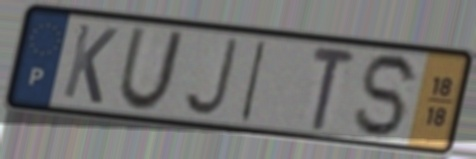I: (237, 37, 271, 125)
J: (180, 36, 241, 119)
K: (59, 20, 122, 107)
S: (351, 51, 424, 140)
T: (309, 43, 359, 134)
U: (114, 25, 188, 114)
